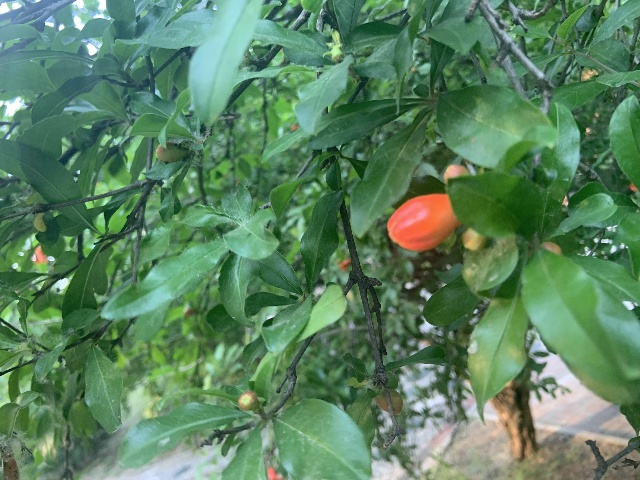bud: (387, 193, 462, 251), (443, 163, 469, 185), (463, 228, 486, 250), (237, 390, 258, 411), (540, 242, 562, 256)
